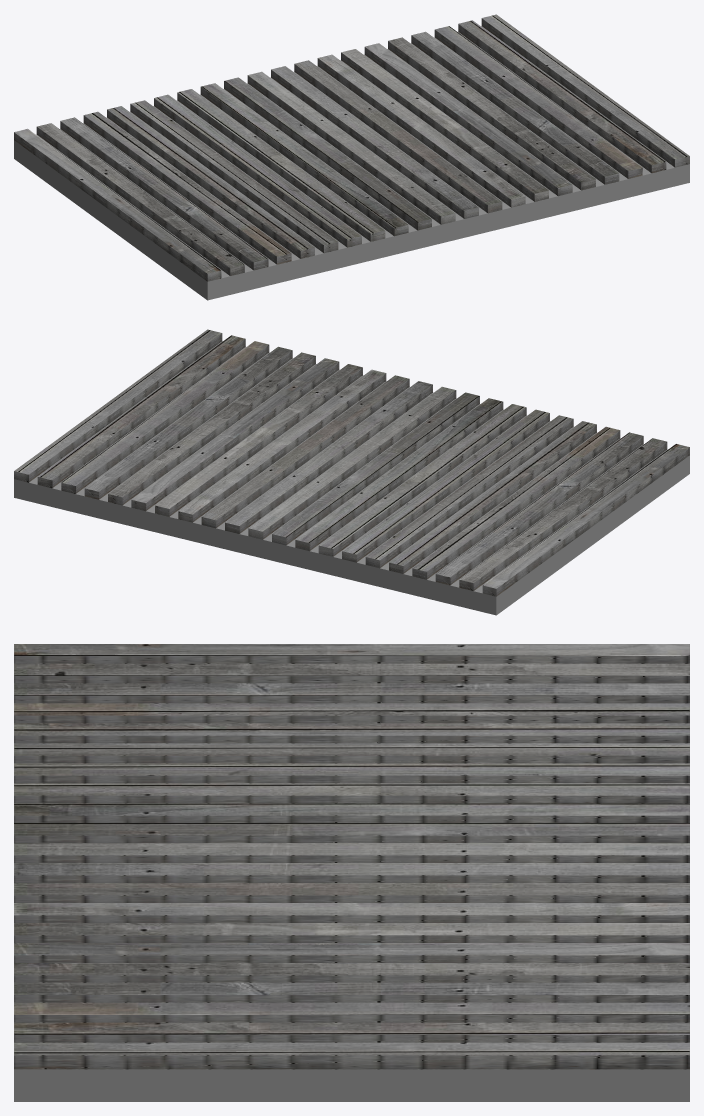
Rendered from Decking.FBX.
The picture shows the model from 3 angles, top to bottom: view 1: azimuth 30°, elevation 25°; view 2: azimuth 150°, elevation 25°; view 3: azimuth 270°, elevation 25°; orthographic projection. The views are drawn at different scales.
Visible parts, largest first — view 1: Decking; view 2: Decking; view 3: Decking.
Boxes of the visible parts, bbox=[...] form: Decking: bbox=[14, 14, 689, 300]; Decking: bbox=[14, 329, 689, 615]; Decking: bbox=[14, 644, 689, 1101].
Bounding box in the file's own units: 108 × 5.7 × 75.
Materials: 2 (1 with a texture image).
